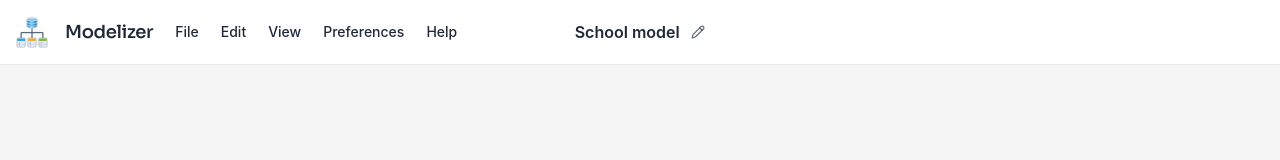
Test: switches from Edit to Help and back on hover
The width and height of the screenshot is (1280, 160).
Hover over the menu item "Help".
mouse_move(442, 32)  # box [416,14,467,50]
Click the menu item "Edit".
click(234, 32)  # box [211,14,256,50]
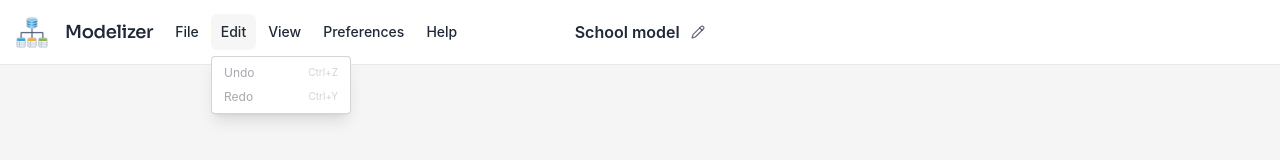
Hover over the menu item "Help".
mouse_move(442, 32)  # box [416,14,467,50]
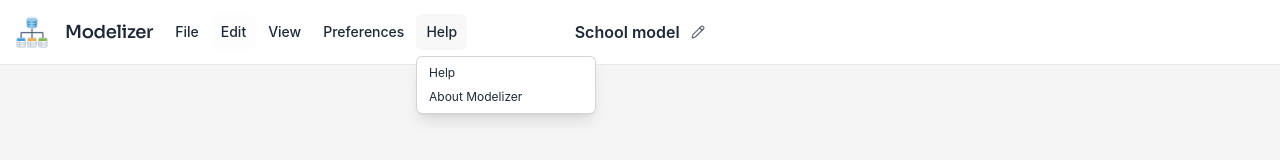
expect the menu "Help" is shown: met, box [416,56,596,114]
Hover over the menu item "Edit".
mouse_move(234, 32)  # box [211,14,256,50]
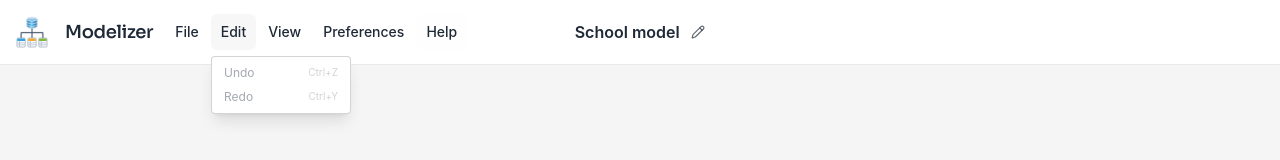
expect the menu named "Edit" is shown: met, box [211,56,351,114]
Press Escape
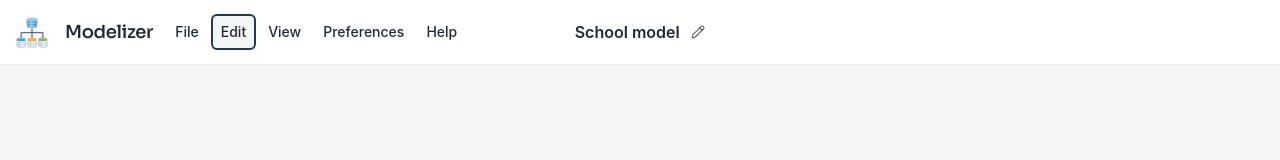
expect the menu is gone: met
